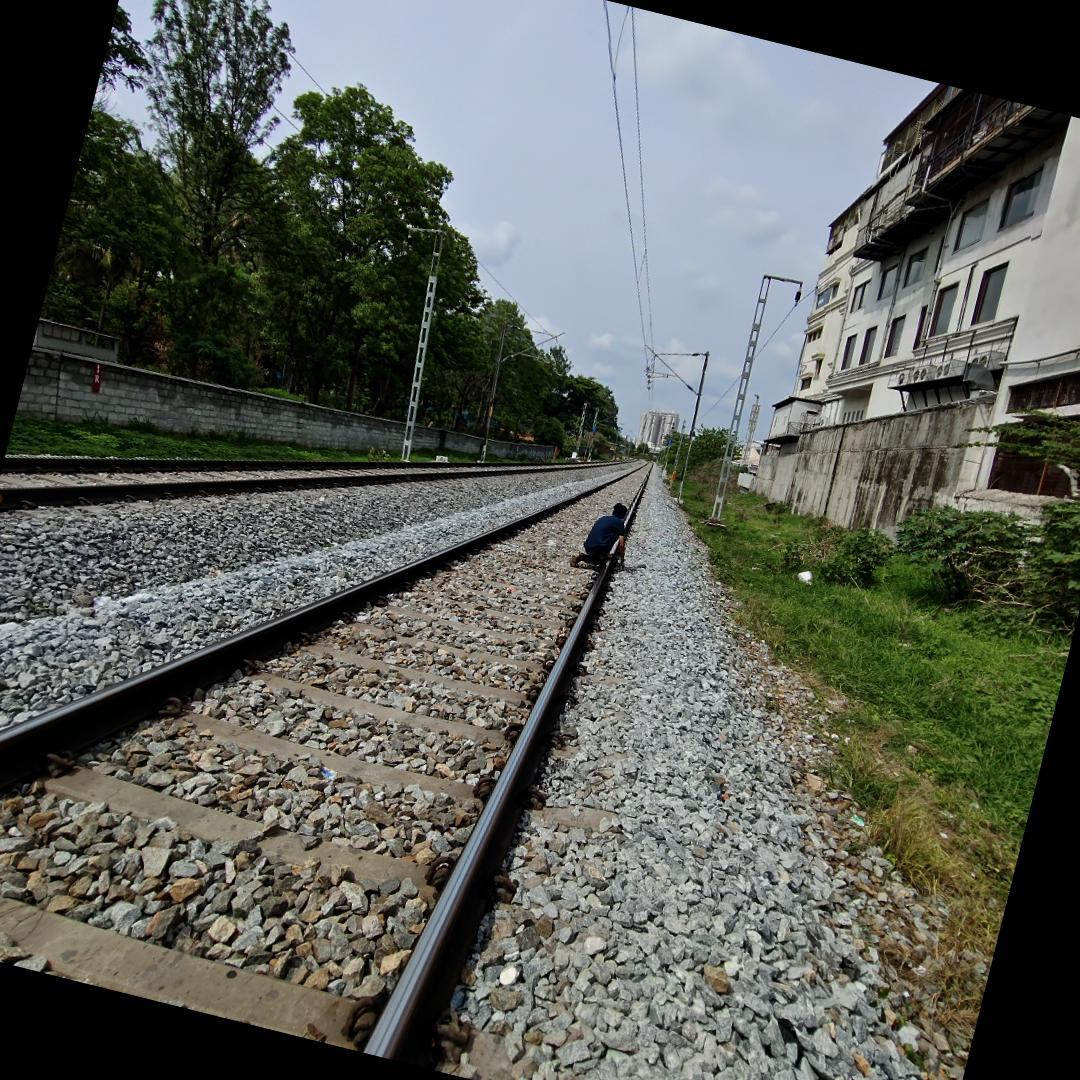track: (0, 458, 670, 1080), (566, 480, 652, 592)
